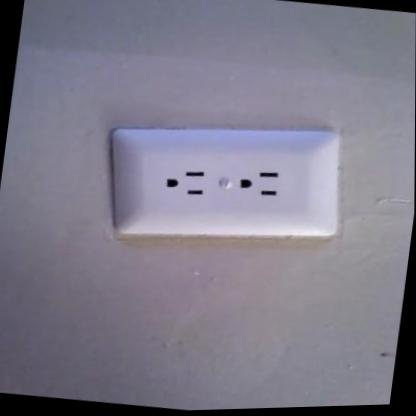OUTLET: (106, 109, 346, 253)
